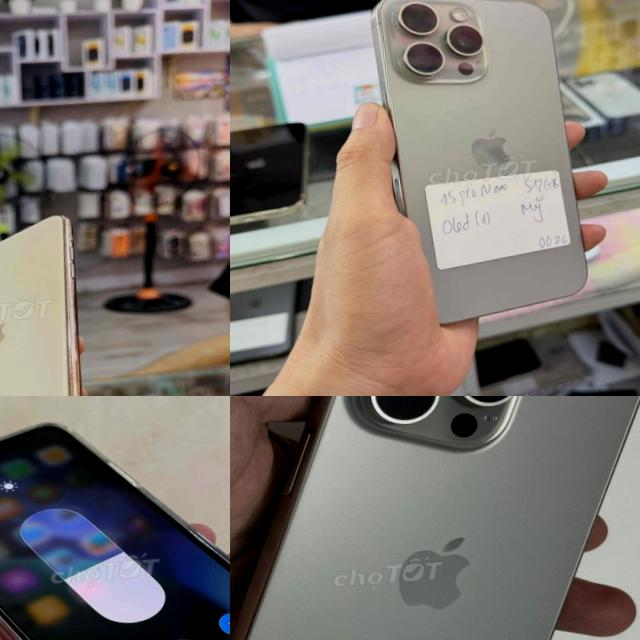gen_11: (0, 396, 230, 640), (0, 216, 81, 396)
gen_15: (230, 396, 640, 640), (366, 0, 602, 337)
